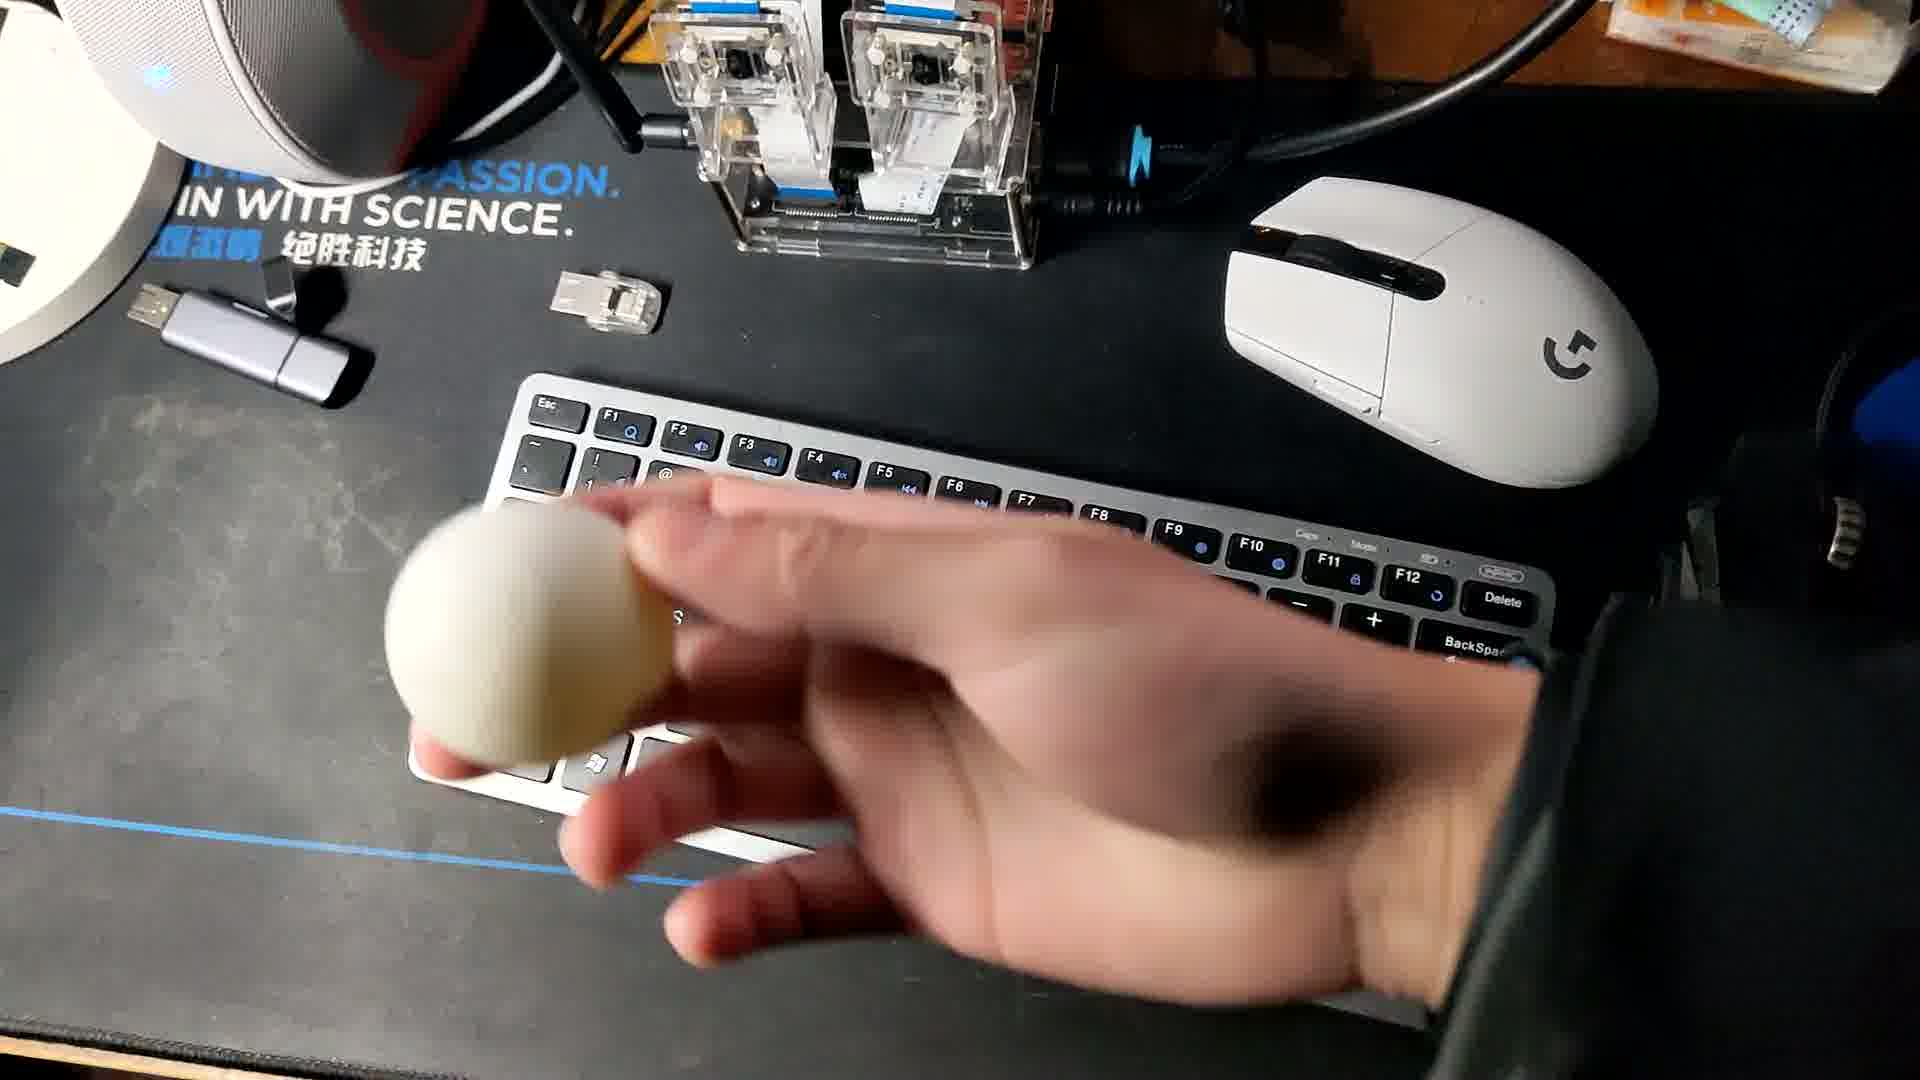Ball: (382, 502, 655, 765)
